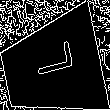L_W: (27, 47, 77, 88)
